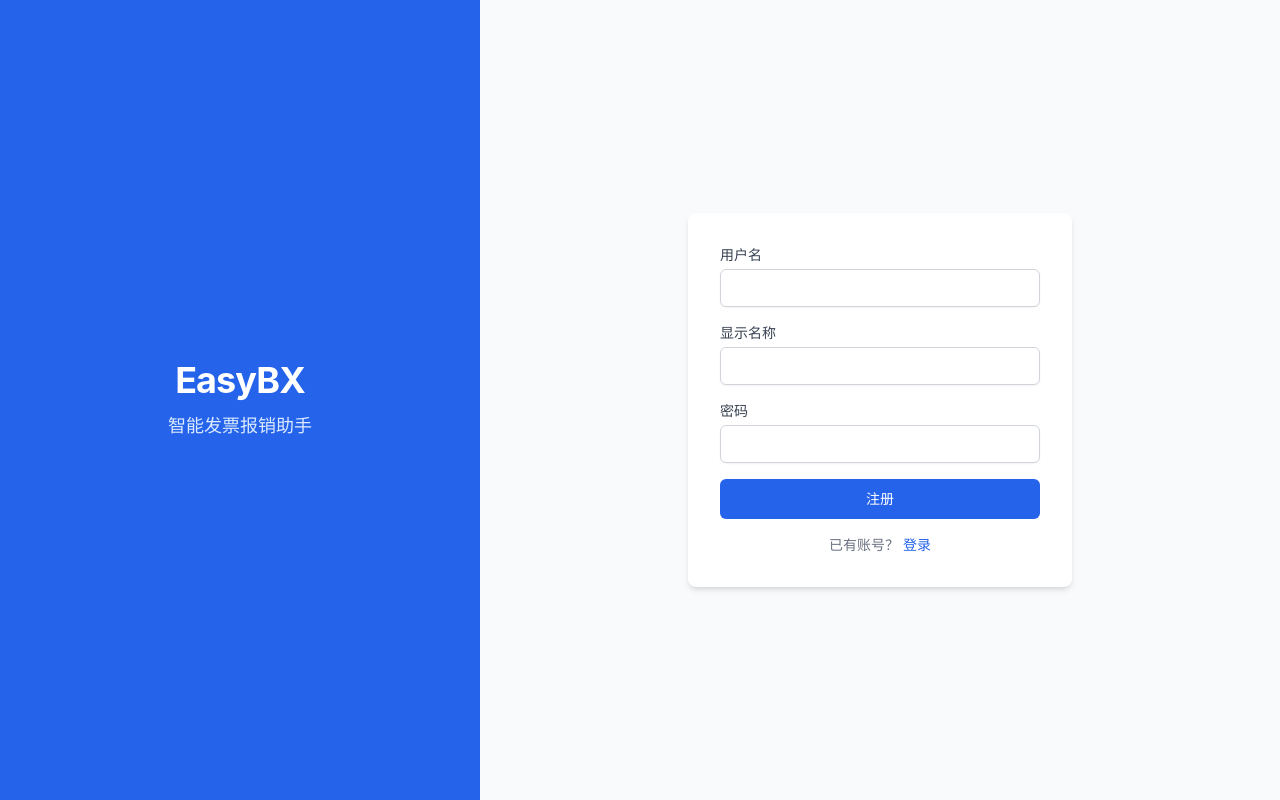
Test: RegisterPage frontend validation › shows error on password when password is less than 6 characters and does not send request
In the field labelled "用户名": x=880, y=288 x1=720 y1=269 x2=1040 y2=307, type "testuser"
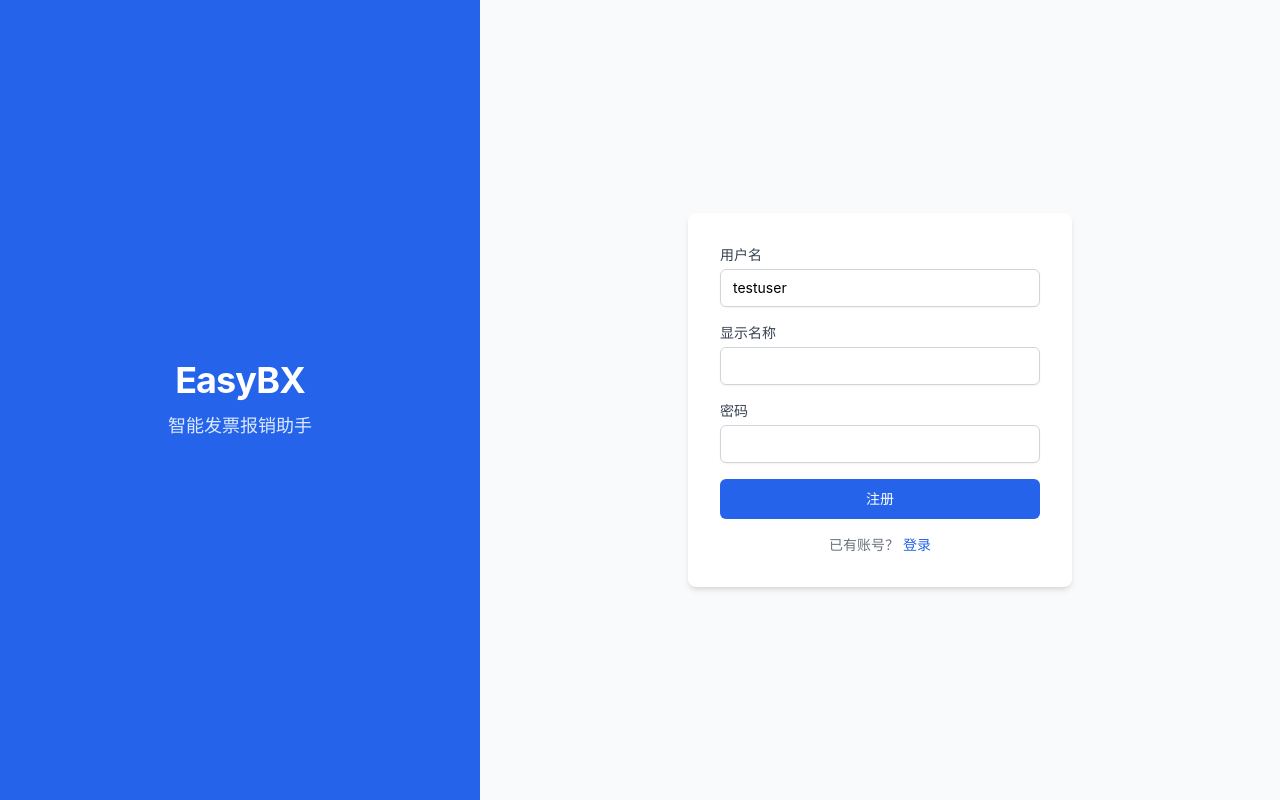
In the field labelled "显示名称": x=880, y=366 x1=720 y1=347 x2=1040 y2=385, type "测试"
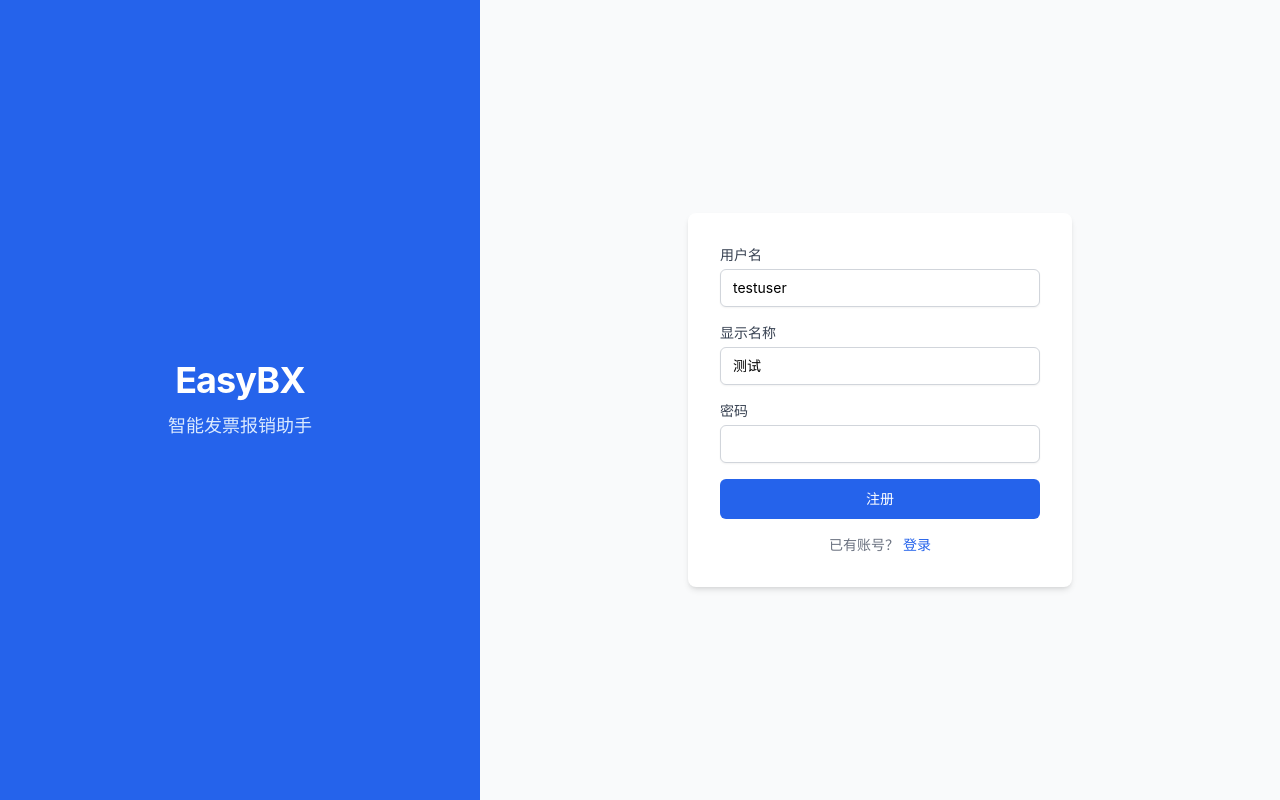
In the password field labelled "密码": x=880, y=444 x1=720 y1=425 x2=1040 y2=463, type "12345"
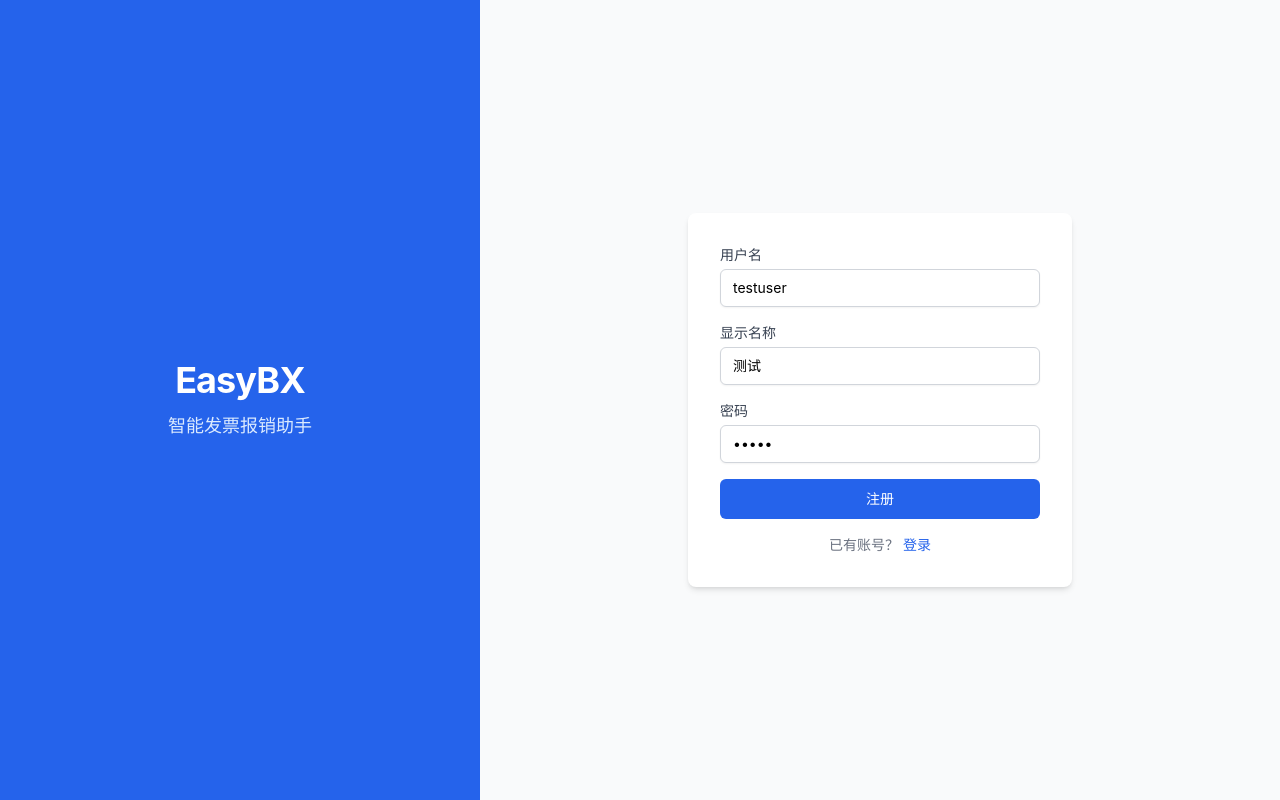
Click the button "注册": x=880, y=499 x1=720 y1=479 x2=1040 y2=519
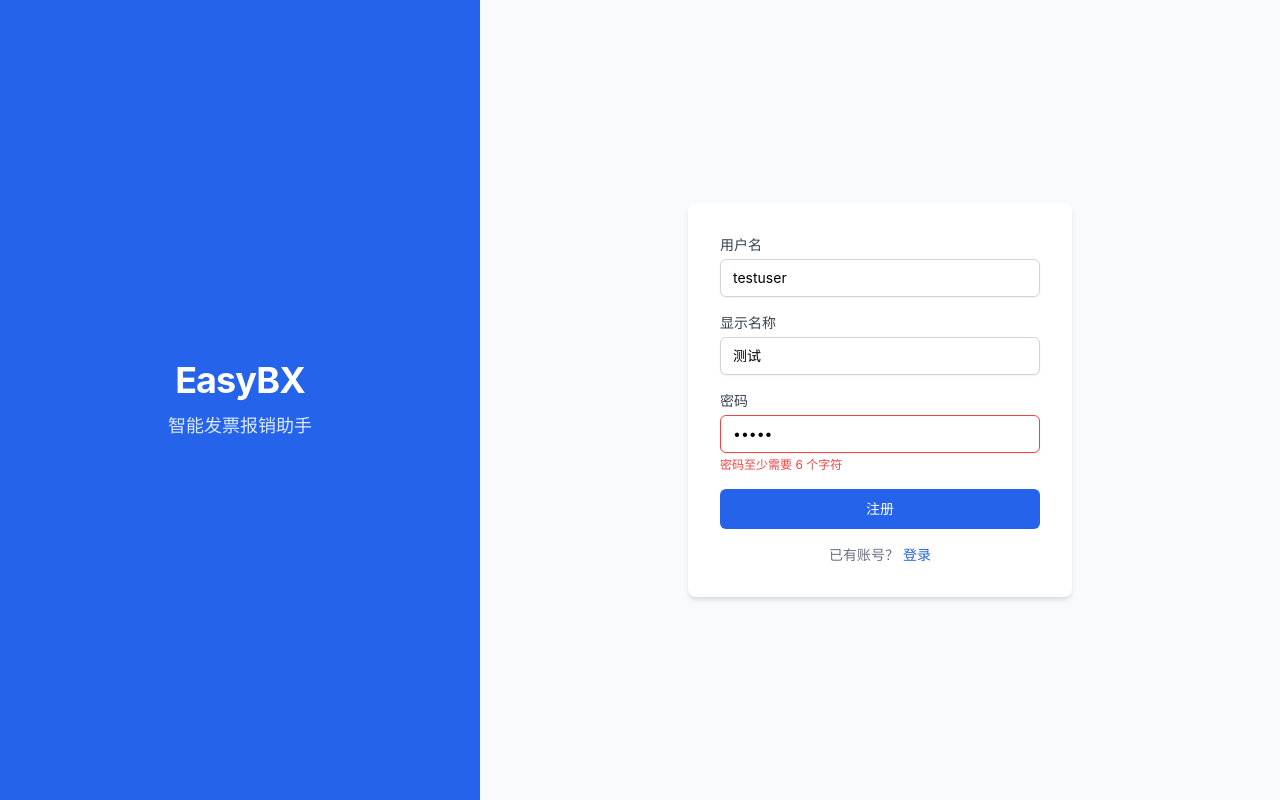
Expected: the text "密码至少需要 6 个字符" is shown, x1=720 y1=457 x2=842 y2=472
